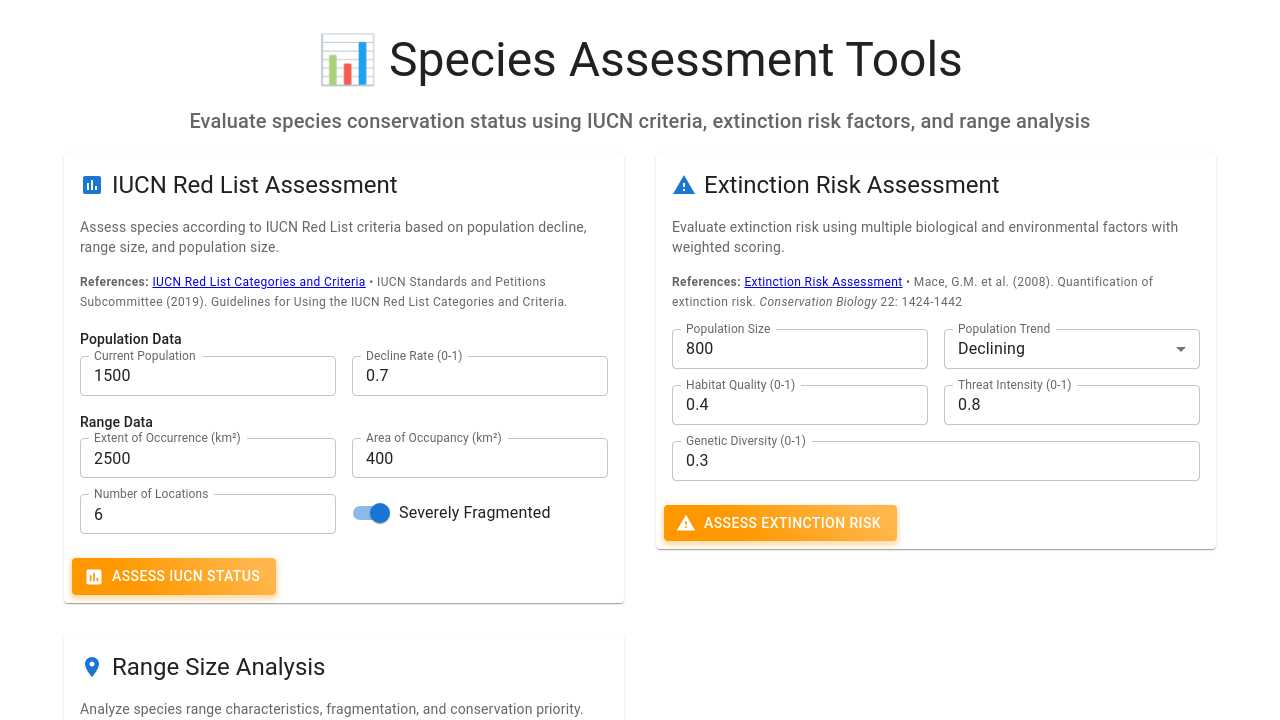
SpeciesAssessment Component › displays extinction risk results
What coordinates should you click on to do the following:
click the button "Assess Extinction Risk"
I would click on:
 (780, 523)
Its box is 664,505 -> 897,541.
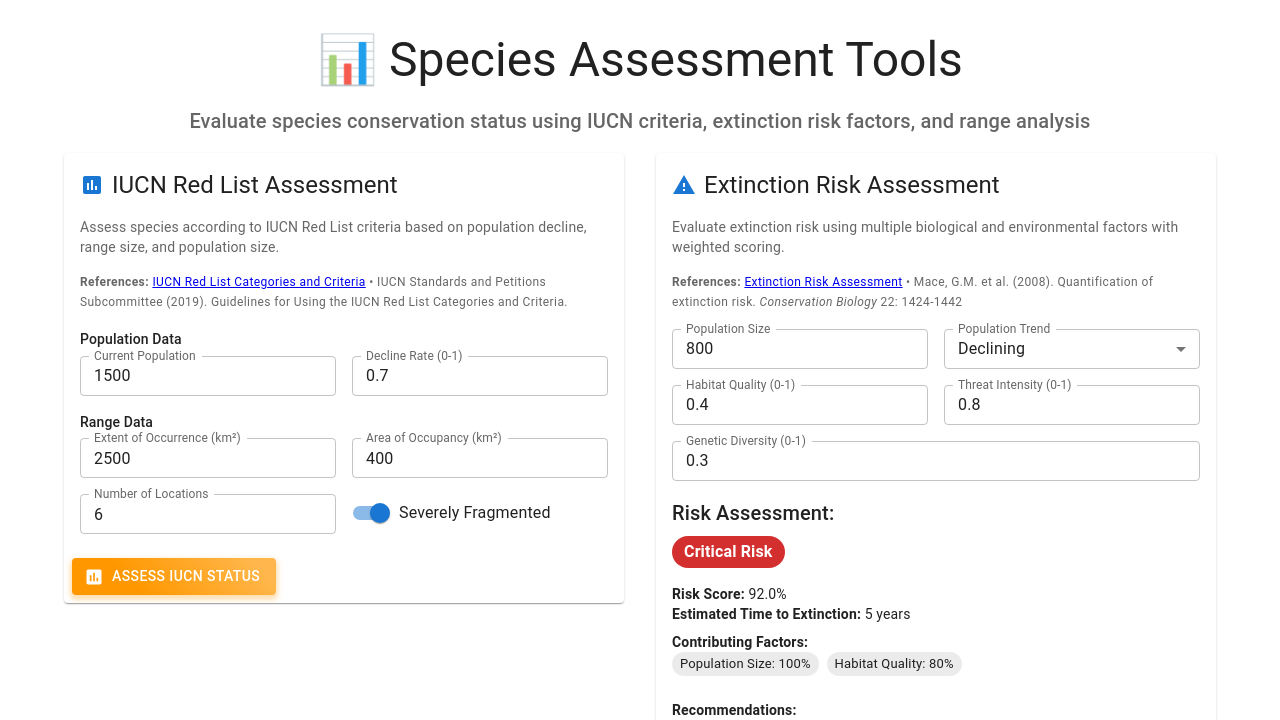
Now the text "Critical Risk" is shown, box 684,542 -> 773,561
Now the text "Risk Score:" is shown, box 672,586 -> 745,602
Now the text "92.0%" is shown, box 672,586 -> 787,602
